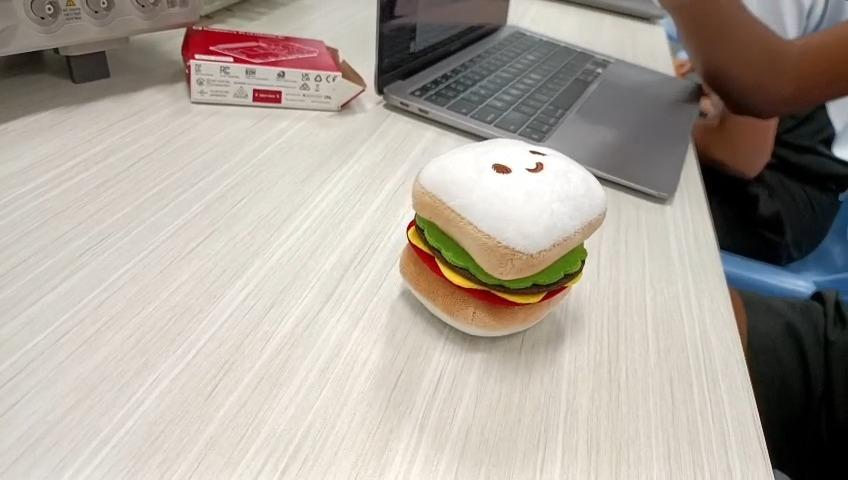objects: (398, 137, 610, 337)
